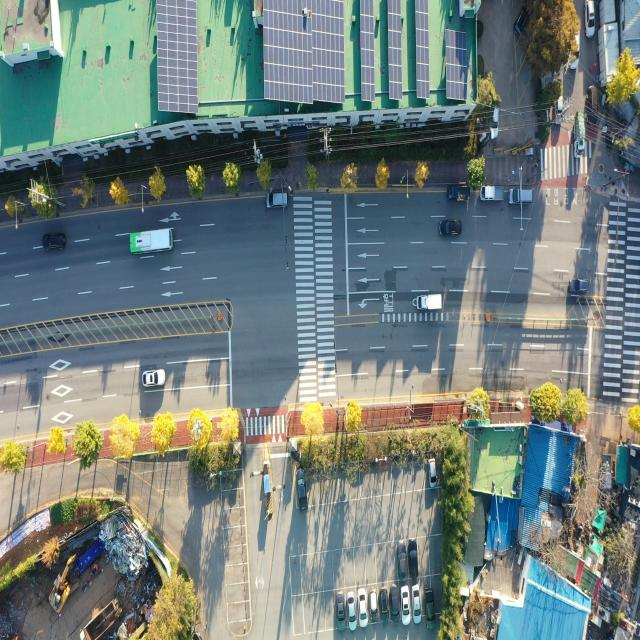car: (513, 2, 533, 44), (568, 11, 580, 71), (397, 541, 408, 583), (584, 0, 596, 38), (297, 468, 307, 513), (508, 189, 532, 207), (588, 86, 598, 128), (142, 371, 166, 388), (410, 540, 420, 579), (268, 193, 290, 210), (441, 220, 463, 237), (43, 234, 65, 251), (358, 589, 367, 628), (488, 108, 498, 143), (338, 592, 347, 630), (348, 592, 357, 630), (400, 587, 409, 624), (569, 278, 589, 294), (381, 588, 390, 622), (414, 586, 422, 624), (426, 587, 434, 624), (368, 590, 376, 623), (429, 458, 437, 488), (391, 586, 398, 620), (557, 98, 565, 123)
large_bus: (129, 229, 174, 257)
medium_truck: (71, 592, 129, 640)
small_truck: (415, 292, 443, 312), (600, 453, 612, 491), (575, 112, 584, 159), (481, 184, 504, 202), (449, 184, 471, 202)
